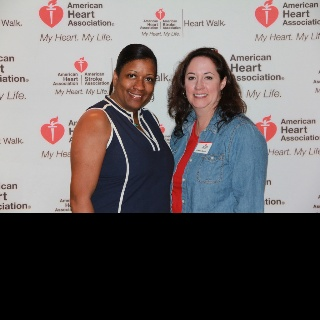without_mask: (116, 59, 153, 109), (185, 57, 218, 108)
